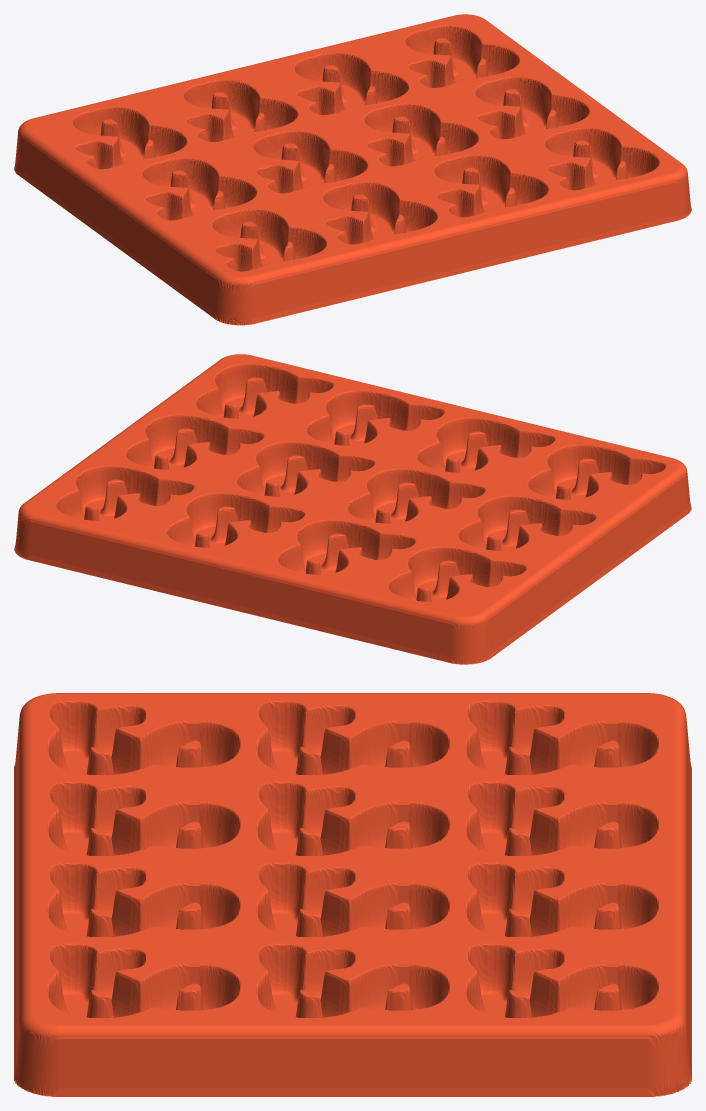
Rendered from mold.glb.
3 views of the same model, one above another, from view 1: azimuth 30°, elevation 25°; view 2: azimuth 150°, elevation 25°; view 3: azimuth 270°, elevation 25° (orthographic). The views are drawn at different scales.
Visible parts, largest first — view 1: geometry_0; view 2: geometry_0; view 3: geometry_0.
Part boxes in pixels (<box>): geometry_0: <box>14,14,691,325</box>; geometry_0: <box>14,354,691,664</box>; geometry_0: <box>14,693,691,1096</box>.
Bounding box in the file's own units: 0.1656 × 0.0145 × 0.1374.
